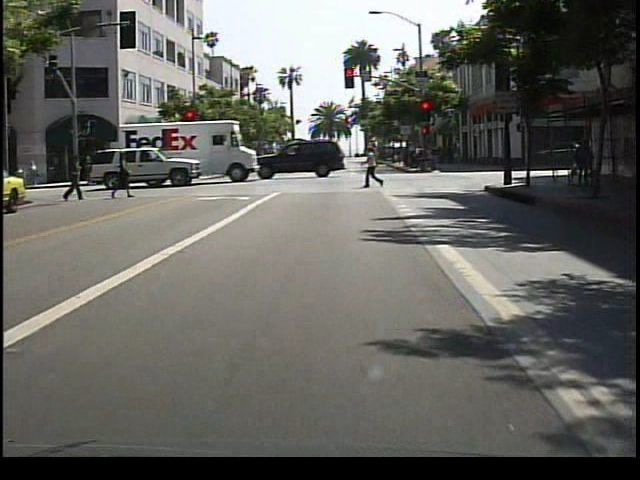person: (570, 136, 598, 195), (110, 152, 136, 203), (362, 145, 387, 192), (65, 158, 87, 206)
